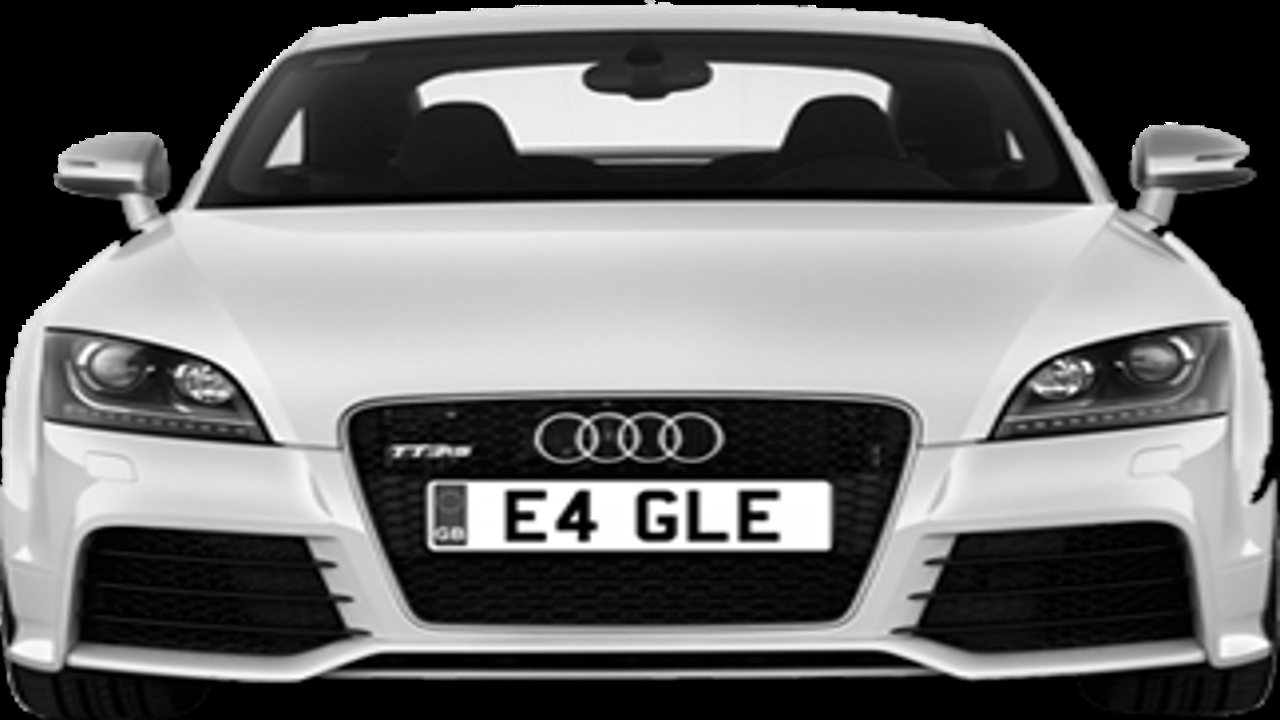license: (421, 475, 839, 566)
